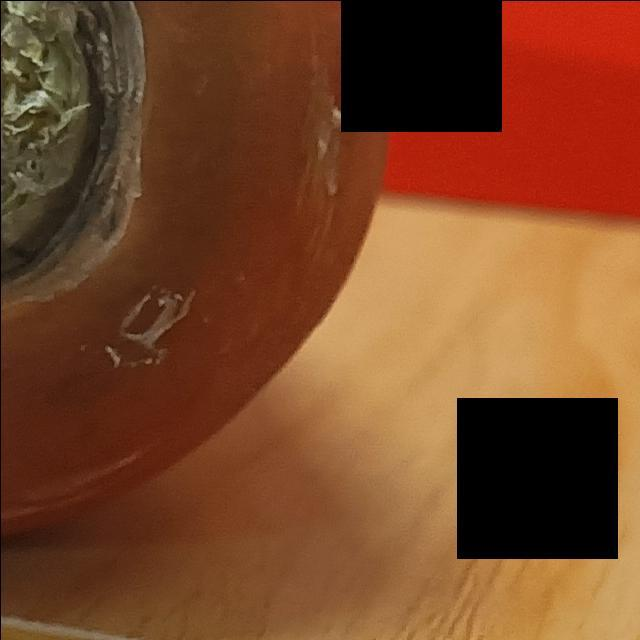carrot: (1, 1, 397, 558)
